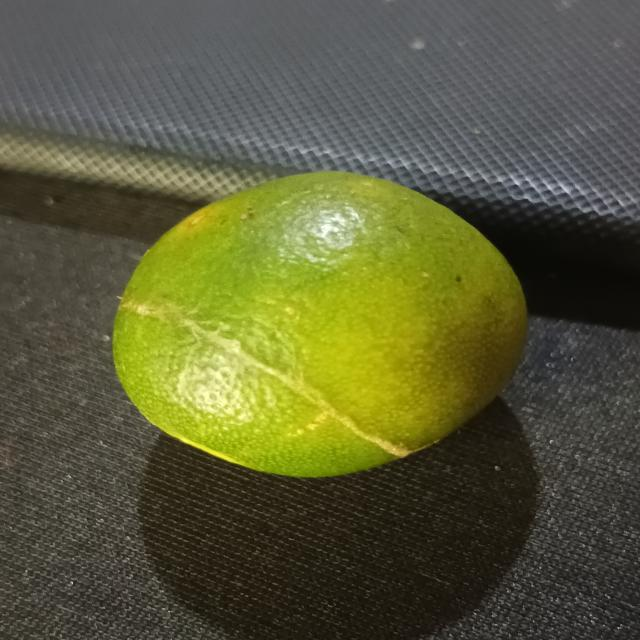thrips: (113, 165, 536, 473)
